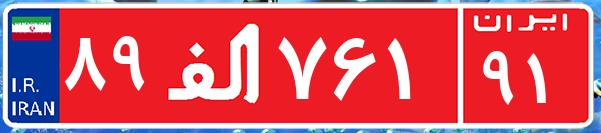1: (385, 28, 445, 110), (525, 38, 570, 115)
6: (330, 28, 385, 110)
7: (273, 28, 330, 110)
8: (57, 26, 110, 107)
9: (475, 38, 525, 113), (110, 28, 158, 105)
الف: (158, 15, 273, 115)
